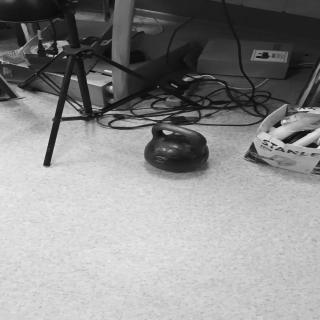kettlebell: (144, 123, 213, 174)
